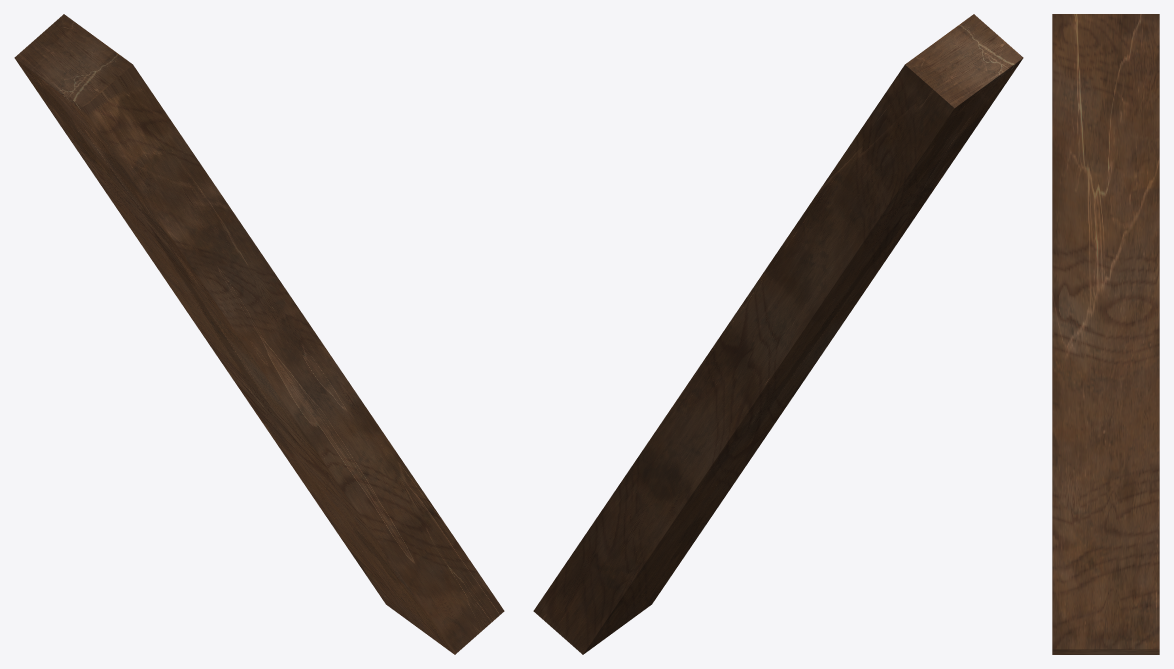
File: MaderaBaja_Salida.fbx
3 renders of one model, left to right at view 1: azimuth 30°, elevation 25°; view 2: azimuth 150°, elevation 25°; view 3: azimuth 270°, elevation 25°, orthographic. The views are drawn at different scales.
Visible parts, largest first — view 1: Madera_01.002; view 2: Madera_01.002; view 3: Madera_01.002.
Boxes of the visible parts, box(x1,y1,x2,y2) form: Madera_01.002: box(14, 14, 504, 654); Madera_01.002: box(533, 14, 1023, 654); Madera_01.002: box(1052, 14, 1159, 654).
Bounding box in the file's own units: 177 × 269 × 50.23.
1 material, 1 textured.
